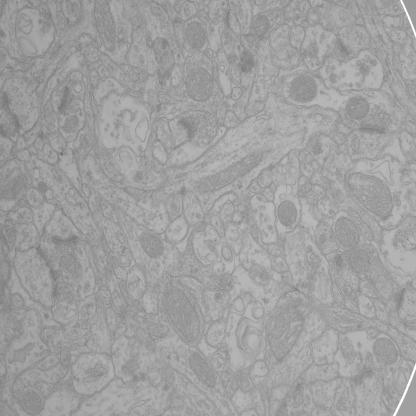mitochondria: (160, 277, 202, 345), (264, 298, 307, 362), (342, 170, 394, 221), (92, 0, 117, 56), (189, 350, 219, 390), (185, 65, 214, 106), (137, 226, 166, 264), (371, 335, 400, 370), (334, 215, 361, 251), (288, 74, 318, 104), (183, 19, 208, 53), (344, 94, 371, 123), (18, 386, 45, 414), (276, 198, 298, 229), (58, 251, 84, 276), (348, 249, 371, 277), (60, 113, 80, 138), (254, 12, 270, 39)
